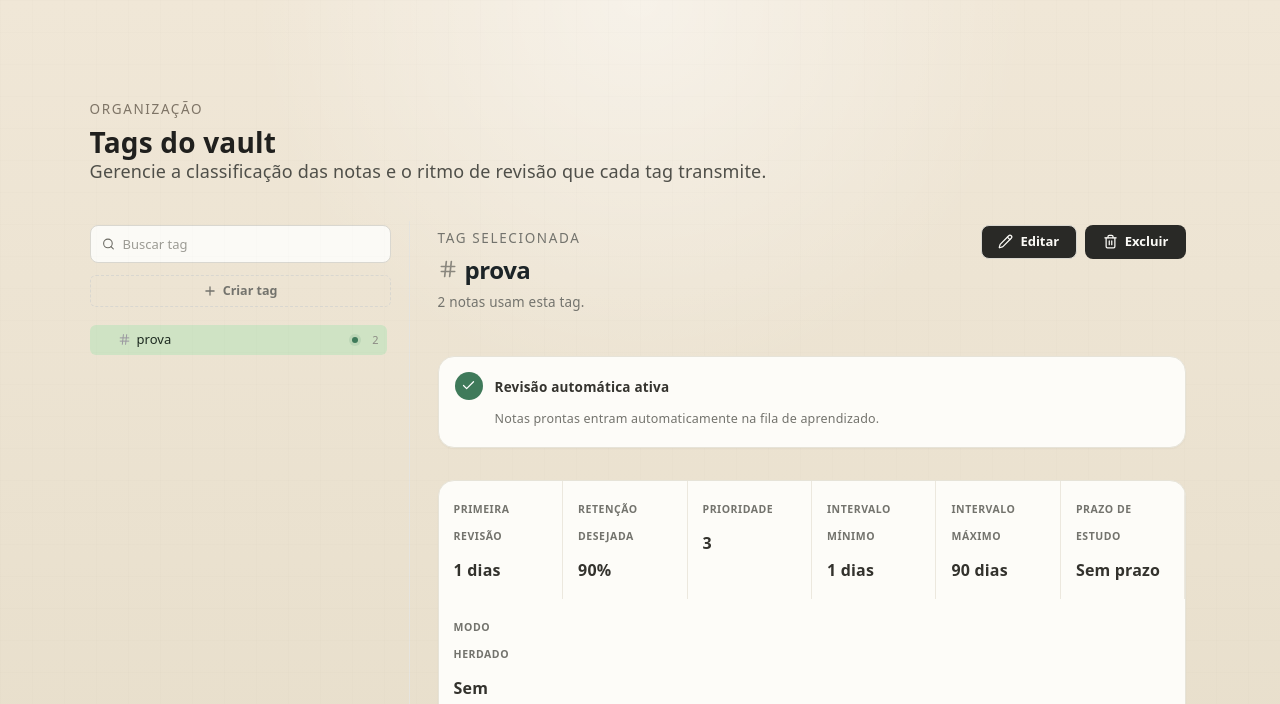
it: TagManagementPage › creates a configured tag only after a zero-impact confirmation
The width and height of the screenshot is (1280, 704).
Click the button "Criar tag" at (240, 291), box [90,275,391,307]
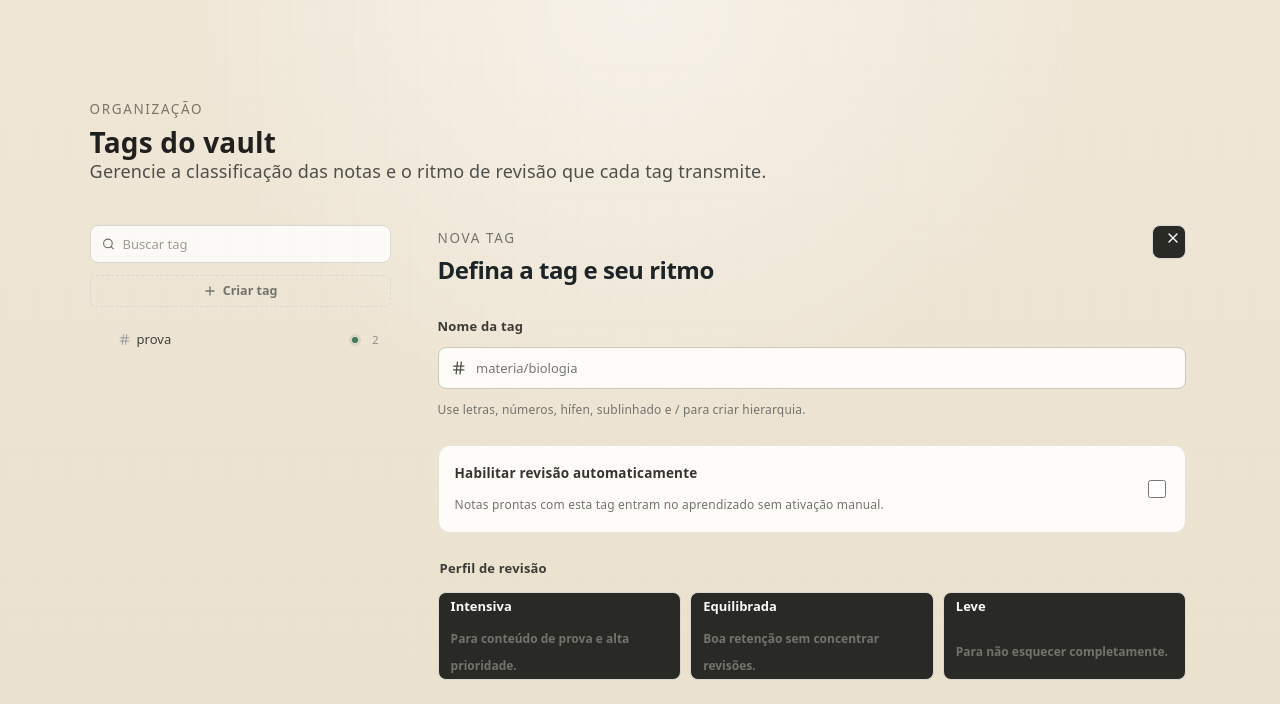
Type "Biologia Celular" into the field labelled "Nome da tag" at (824, 368), box [474,348,1173,388]
(page scrolled)
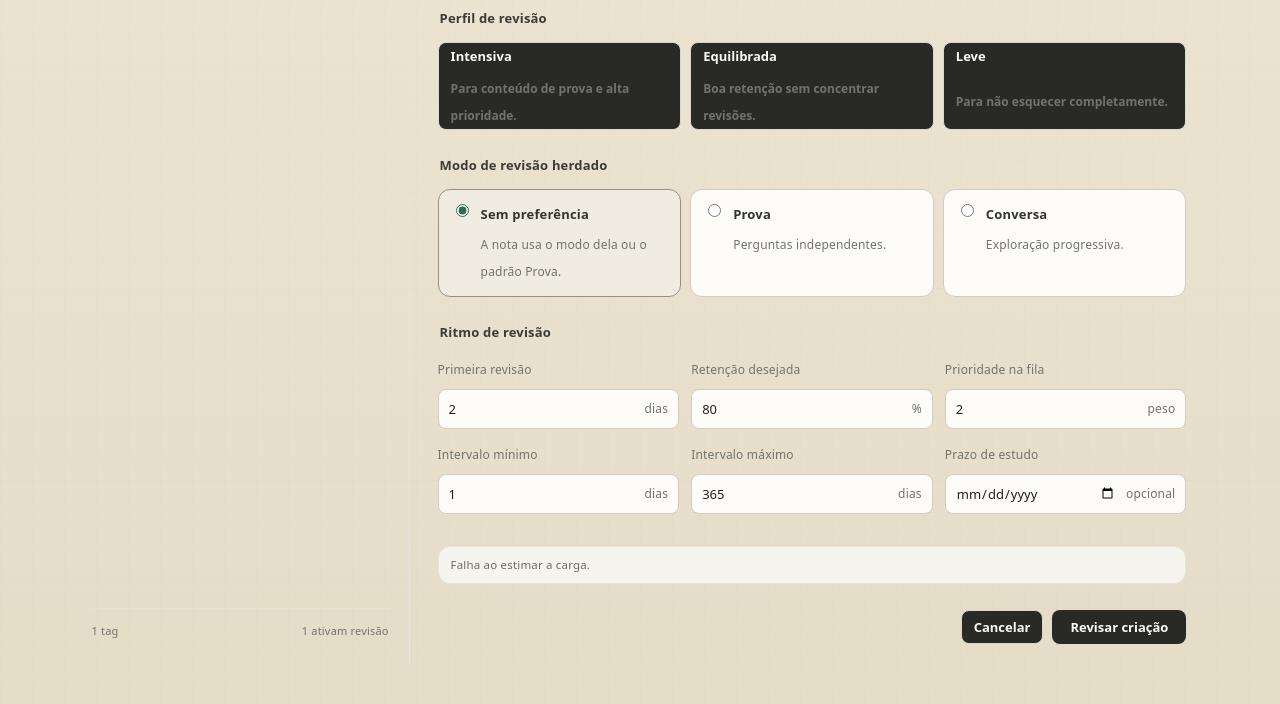
Click the button "Revisar criação" at (1120, 628), box [1052,610,1186,644]
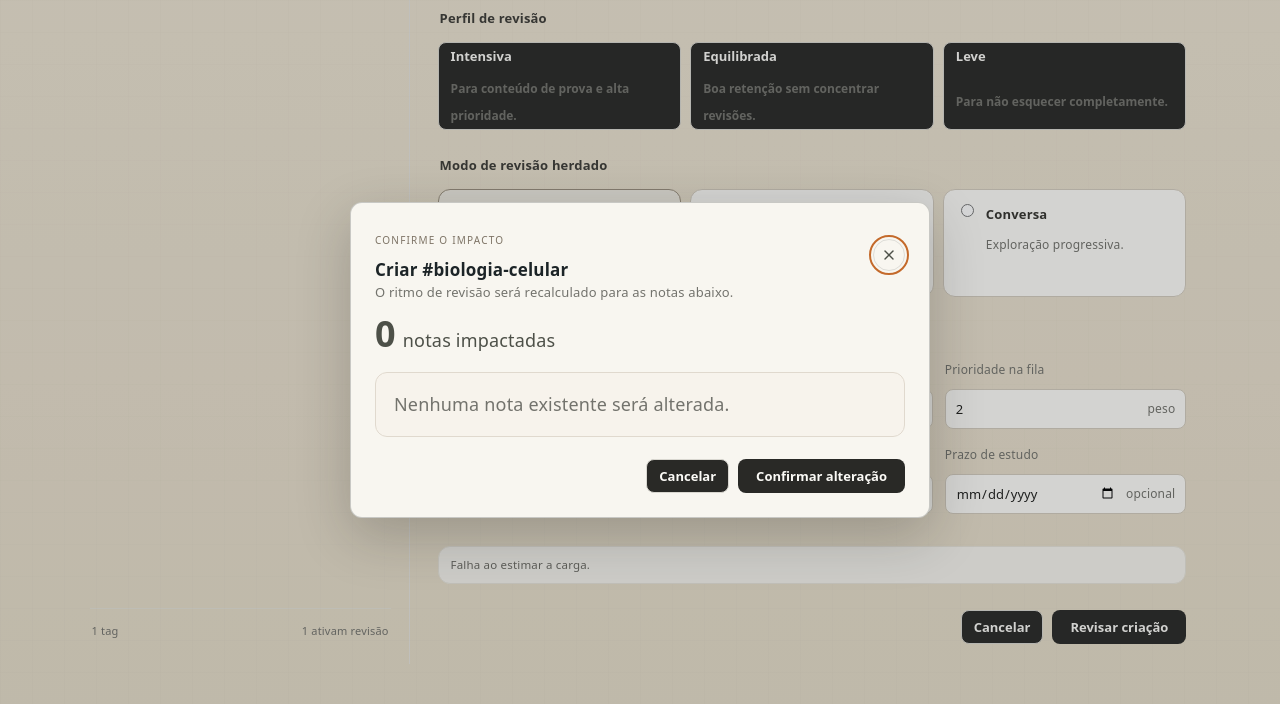
Result: the dialog "Criar #biologia-celular" shows "Nenhuma nota existente será alterada" at [394,392,730,416]
